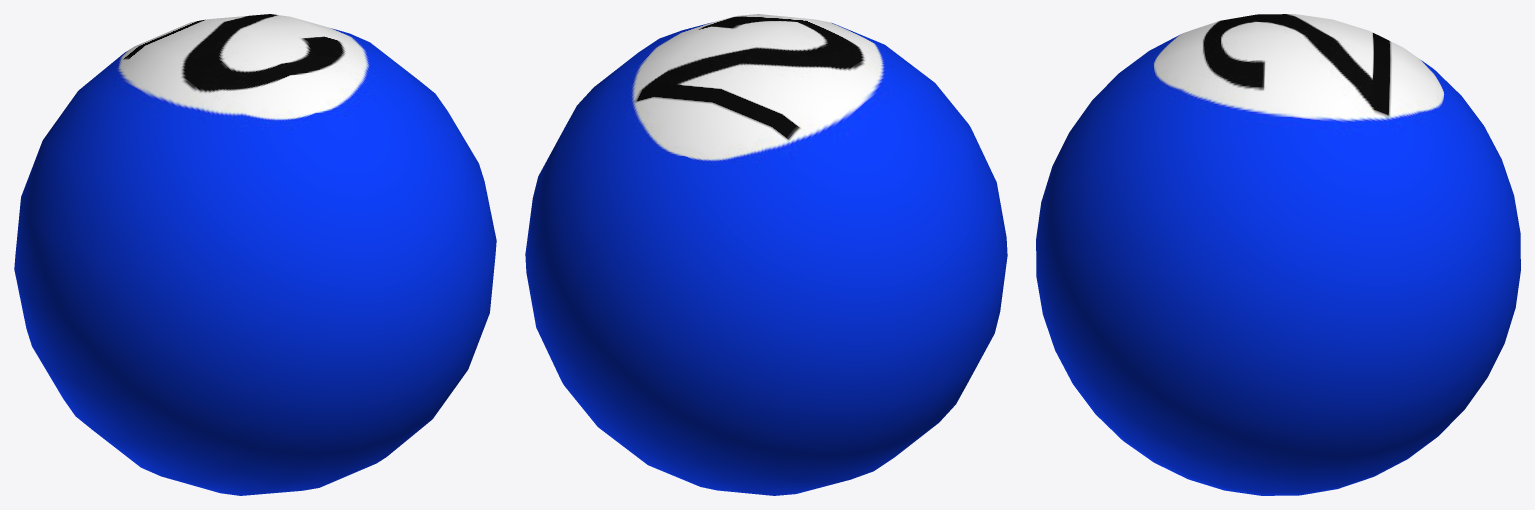
File: Ball2.fbx
The picture shows the model from 3 angles, left to right: view 1: azimuth 30°, elevation 25°; view 2: azimuth 150°, elevation 25°; view 3: azimuth 270°, elevation 25°; orthographic projection.
Parts seen in each view (by area): view 1: pSphere1; view 2: pSphere1; view 3: pSphere1.
Part boxes in pixels (left/top/right/bottom): pSphere1: left=14, top=14, right=496, bottom=495; pSphere1: left=525, top=14, right=1007, bottom=495; pSphere1: left=1036, top=14, right=1520, bottom=495.
Size of the model in its own units: 2 by 1.99 by 2.
